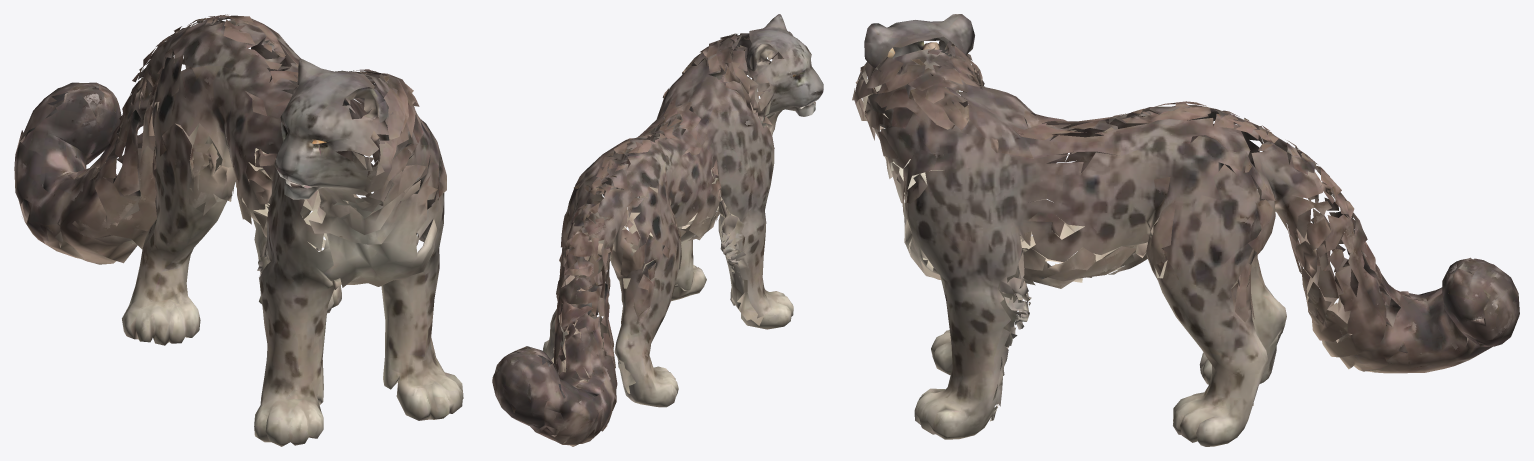
File: snow-leopard.glb
3 views of the same model, side by side, from view 1: azimuth 30°, elevation 25°; view 2: azimuth 150°, elevation 25°; view 3: azimuth 270°, elevation 25° (orthographic). The views are drawn at different scales.
Parts seen in each view (by area): view 1: snow-leopard.raw; view 2: snow-leopard.raw; view 3: snow-leopard.raw.
Part boxes in pixels (x1,y1,x2,y2): snow-leopard.raw: (14,14,463,446); snow-leopard.raw: (492,14,823,446); snow-leopard.raw: (852,14,1519,446).
Bounding box in the file's own units: 0.483 × 0.8 × 1.33.
Materials: 1 (1 with a texture image).
